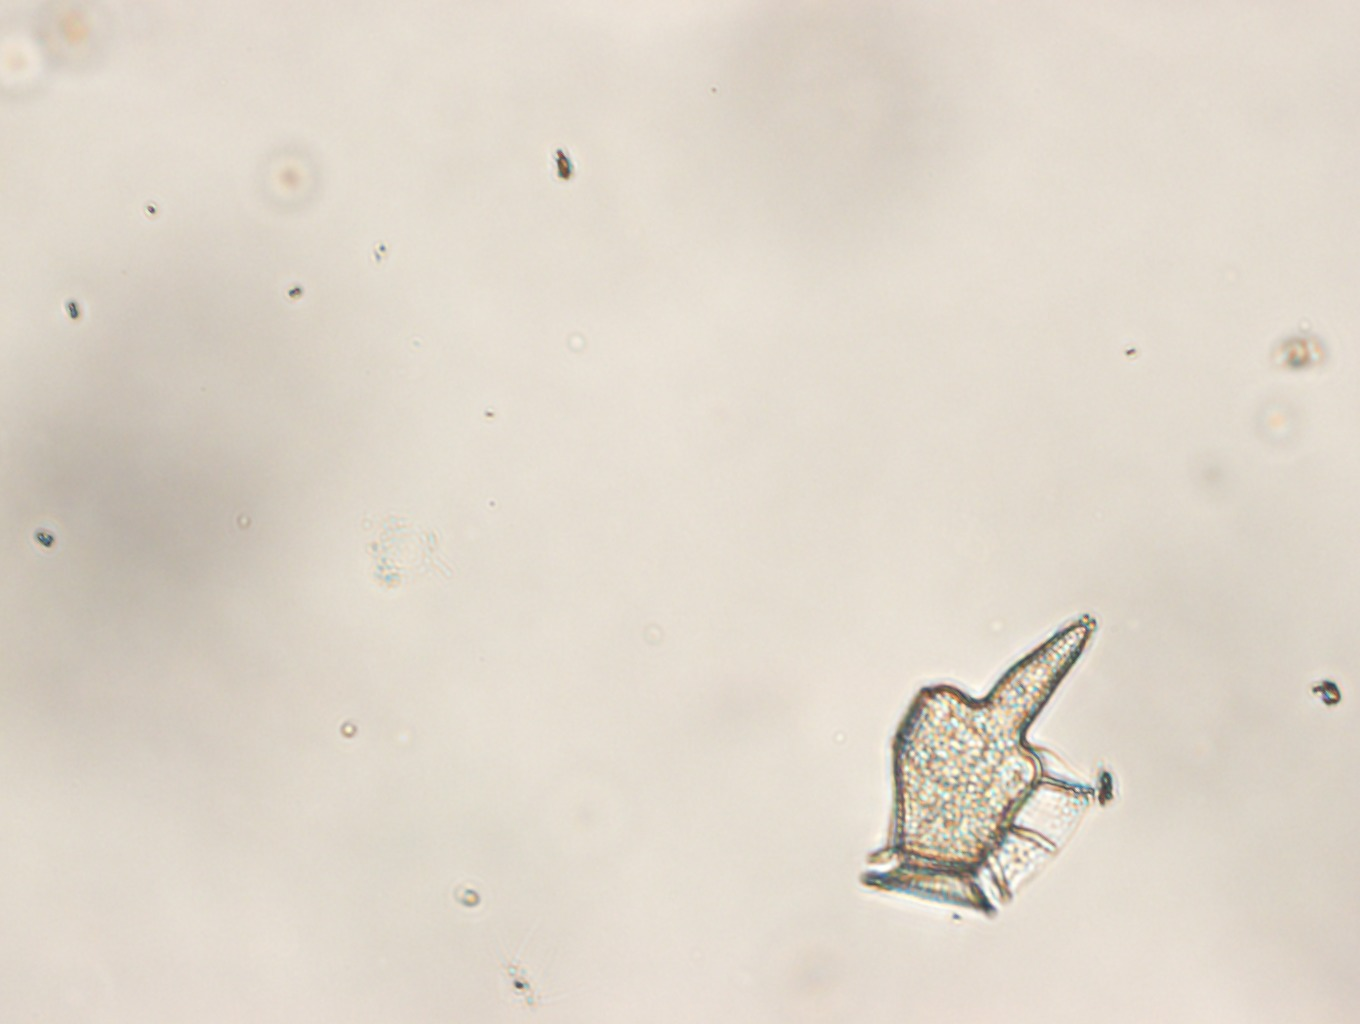dinophysis caudata: (857, 616, 1104, 913)
